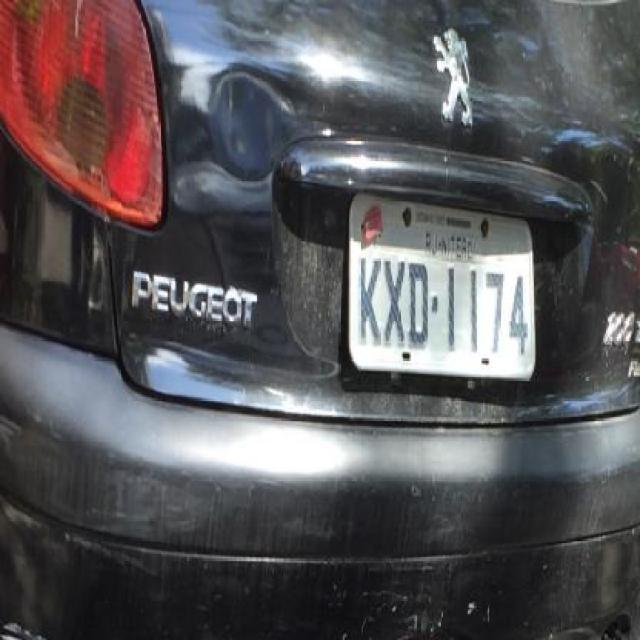old_plate: (340, 187, 545, 383)
